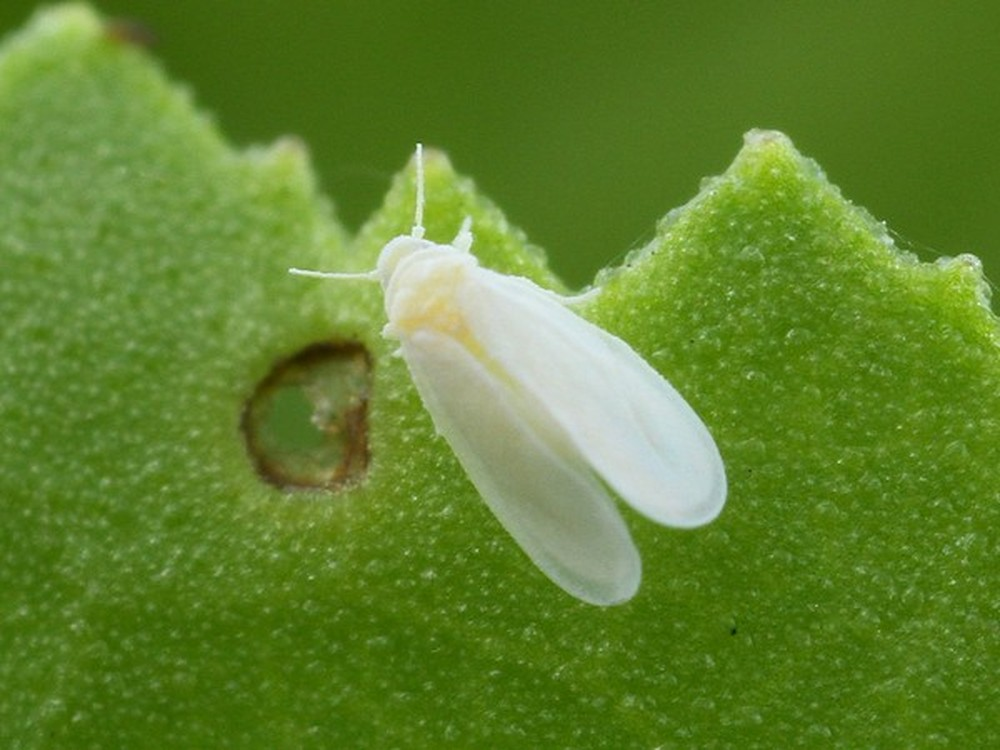Mosca Blanca: (274, 135, 741, 619)
